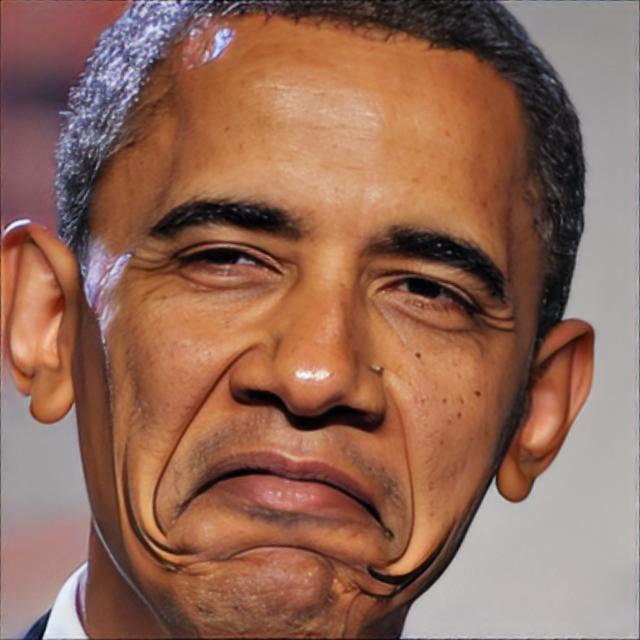disgust: (75, 0, 539, 640)
